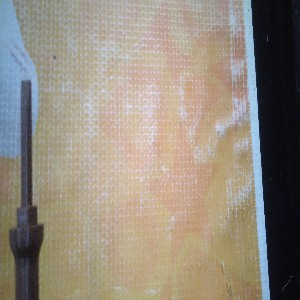obeng: (7, 78, 45, 300)
